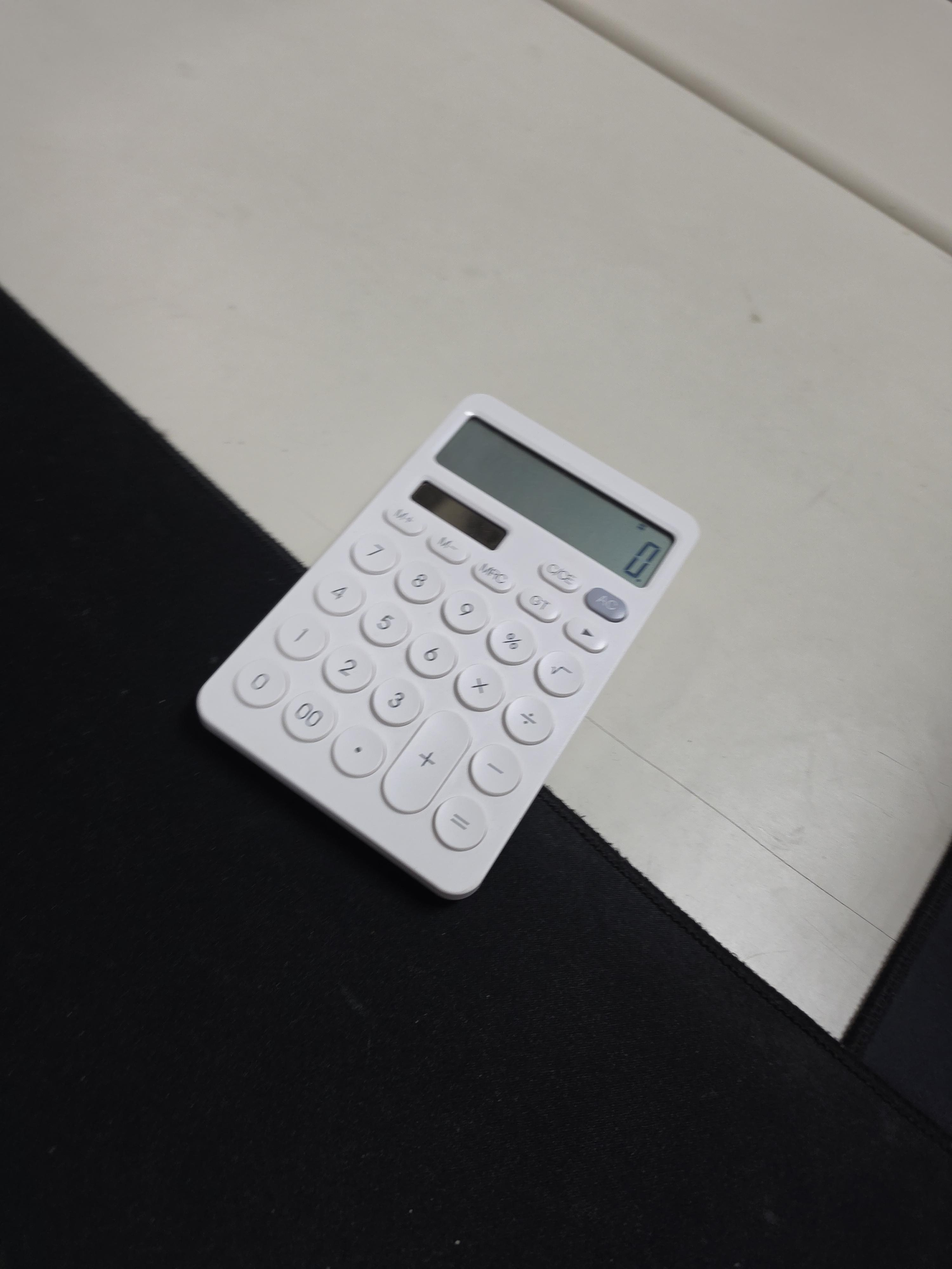calculator: (195, 394, 699, 901)
